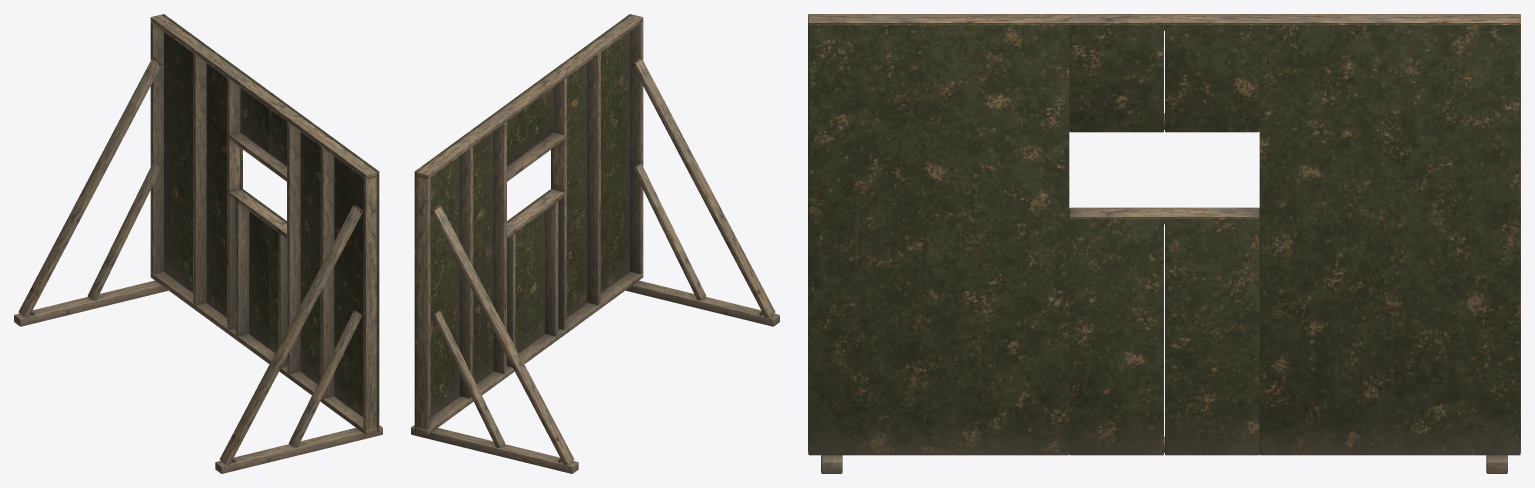
File: SM_Barricade_Plywood_3m_Body.fbx
The picture shows the model from 3 angles, left to right: view 1: azimuth 30°, elevation 25°; view 2: azimuth 150°, elevation 25°; view 3: azimuth 270°, elevation 25°; orthographic projection. The views are drawn at different scales.
Visible parts, largest first — view 1: Barricade_Plywood_3m_Body; view 2: Barricade_Plywood_3m_Body; view 3: Barricade_Plywood_3m_Body.
Part boxes in pixels (left/top/right/bottom): Barricade_Plywood_3m_Body: left=14, top=14, right=382, bottom=473; Barricade_Plywood_3m_Body: left=411, top=14, right=779, bottom=473; Barricade_Plywood_3m_Body: left=808, top=14, right=1520, bottom=473.
Size of the model in its own units: 3 by 1.3 by 2.06.
Materials: 1 (1 with a texture image).
